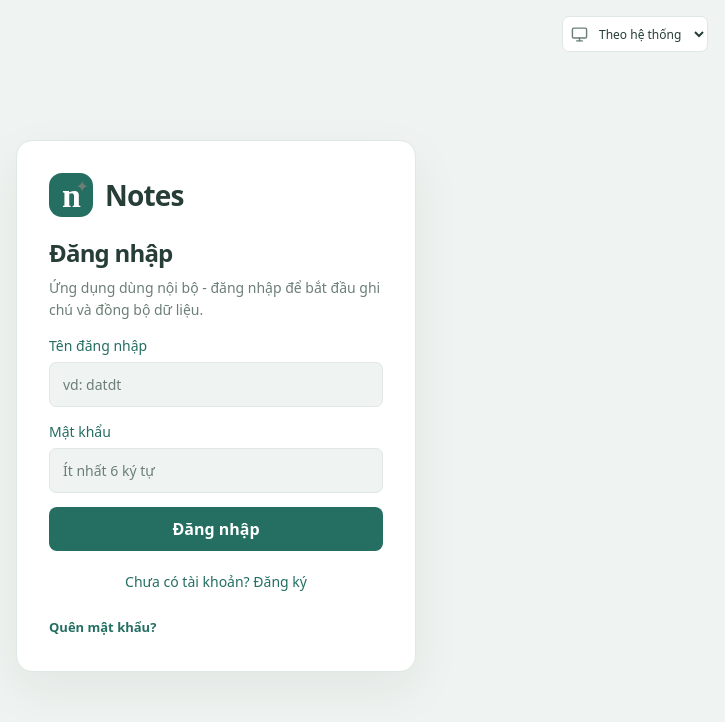
Scenario: Tài khoản tuần 10 › đăng nhập lỗi vẫn cho thử lại và chỉ lưu phiên khi thành công
Type " bao " into the field labelled "Tên đăng nhập" at point(216, 385), box x1=49 y1=362 x2=383 y2=407
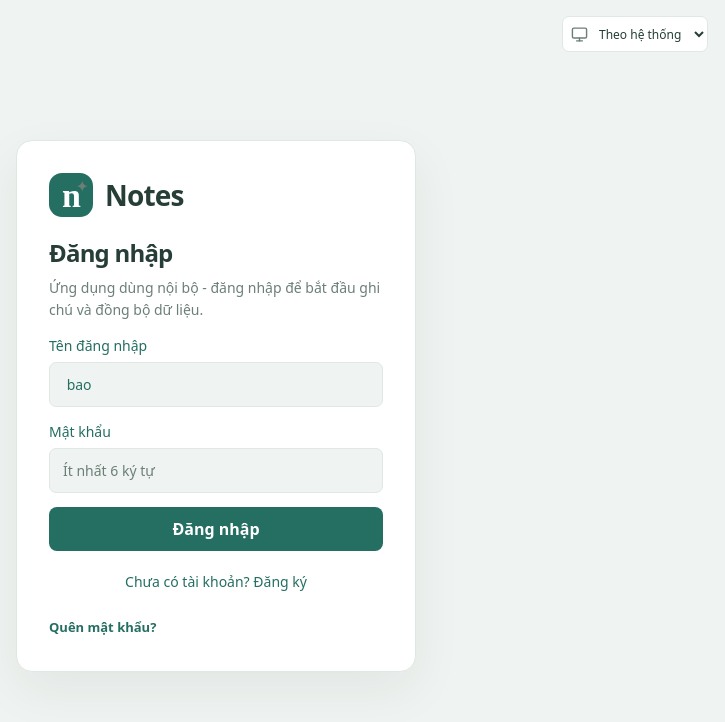
Type "matkhau123" into the password field labelled "Mật khẩu" at point(216, 471), box x1=49 y1=448 x2=383 y2=493
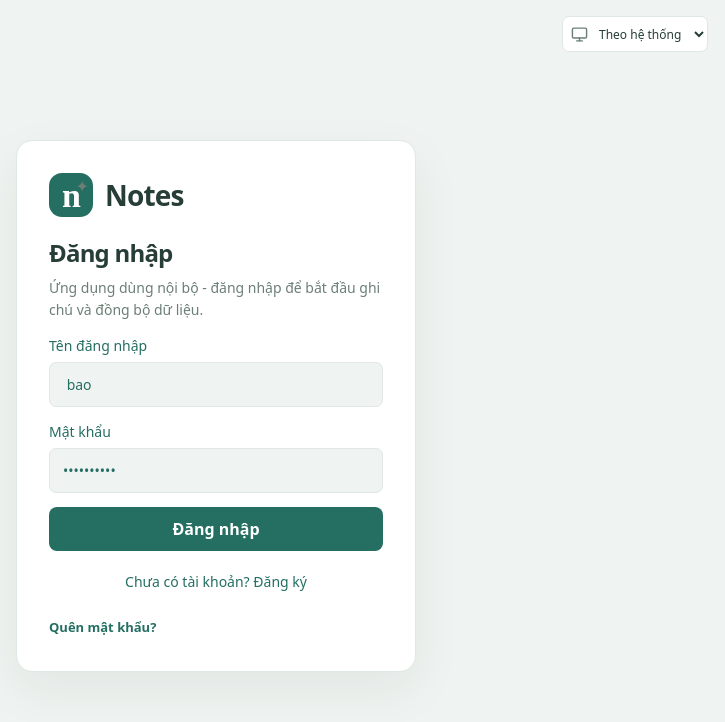
Click the button "Đăng nhập" at point(216, 529), box x1=49 y1=507 x2=383 y2=551
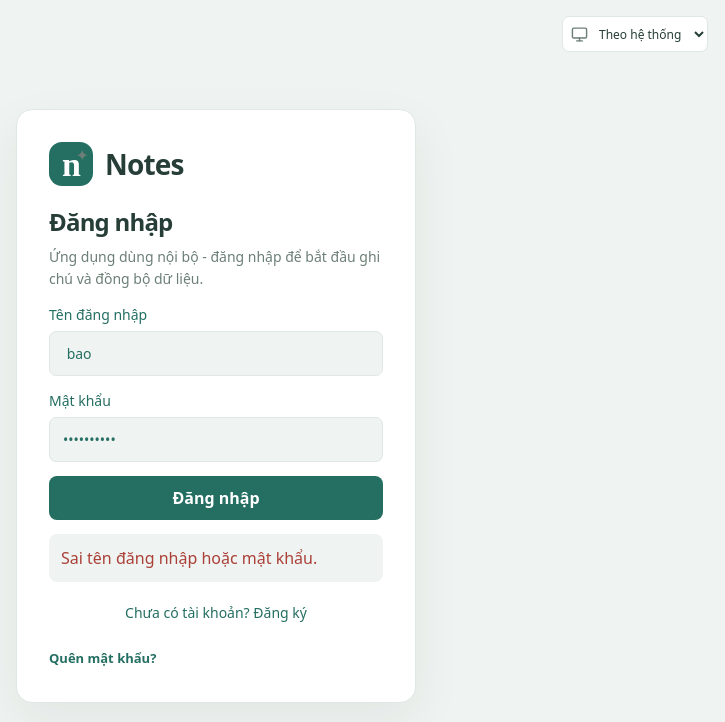
Now the message shows "Sai tên đăng nhập", box x1=61 y1=547 x2=317 y2=569
Click the button "Đăng nhập" at point(216, 498), box x1=49 y1=476 x2=383 y2=520
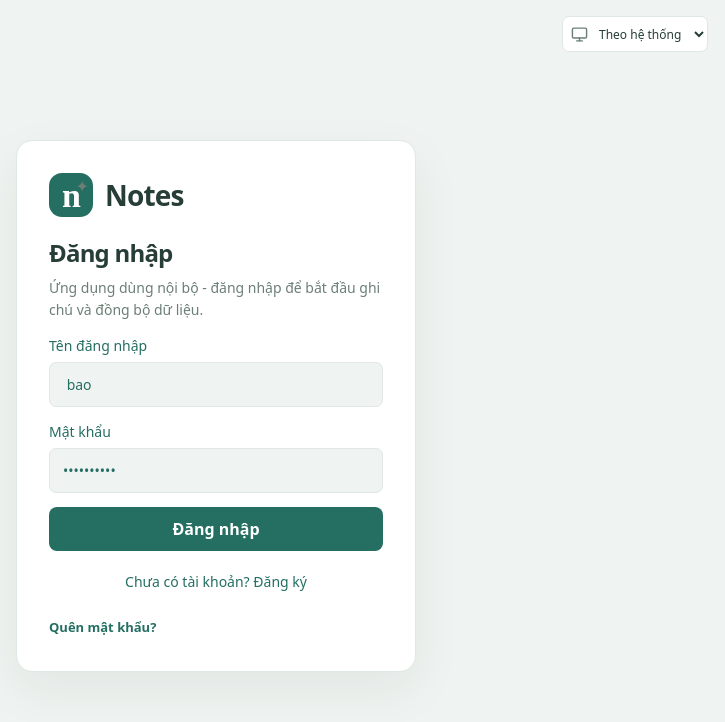
Now the message "Sai tên đăng nhập hoặc mật khẩu." is gone
